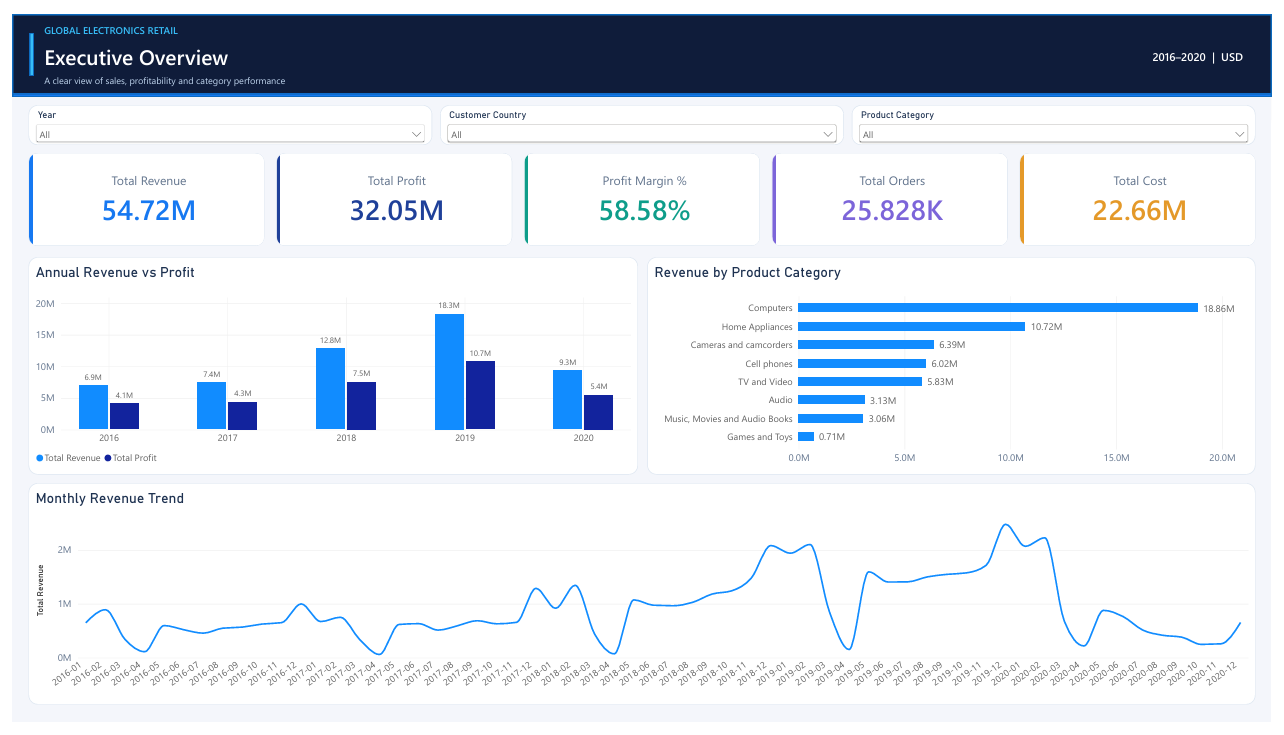

What the dashboard file says about the page in this screenshot:
{"tool":"powerbi","page":{"name":"Executive Overview","canvas":[1920,1080],"ordinal":0},"visuals":[{"type":"shape","box":[0,0,1920,121],"z":0},{"type":"cardVisual","fields":{"Data":["public sales.Profit Margin %"]},"box":[780,211,360,142],"z":1000},{"type":"shape","box":[0,121,1920,4],"z":2000},{"type":"shape","box":[26,28,6,65],"z":3000},{"type":"cardVisual","fields":{"Data":["public sales.Total Cost"]},"box":[1536,211,360,142],"z":4000},{"type":"cardVisual","fields":{"Data":["public sales.Total Orders"]},"box":[1158,211,360,142],"z":5000},{"type":"cardVisual","fields":{"Data":["public sales.Total Profit"]},"box":[402,211,360,142],"z":6000},{"type":"cardVisual","fields":{"Data":["public sales.Total Revenue"]},"box":[24,211,360,142],"z":7000},{"type":"clusteredColumnChart","title":"Annual Revenue vs Profit","fields":{"Category":["DimDate.Year"],"Y":["public sales.Total Revenue","public sales.Total Profit"]},"box":[24,370,930,332],"z":8000},{"type":"clusteredBarChart","title":"Revenue by Product Category","fields":{"Category":["public products.category"],"Y":["public sales.Total Revenue"]},"box":[968,370,928,332],"z":9000},{"type":"slicer","fields":{"Values":["DimDate.Year"]},"box":[24,138,616,61],"z":10000},{"type":"slicer","title":"Customer Country","fields":{"Values":["public customers.country"]},"box":[652,138,616,61],"z":11000},{"type":"slicer","fields":{"Values":["public products.category"]},"box":[1280,138,616,61],"z":12000},{"type":"lineChart","title":"Monthly Revenue Trend","fields":{"Category":["DimDate.Year-Month"],"Y":["public sales.Total Revenue"]},"box":[24,715,1872,338],"z":13000},{"type":"textbox","box":[48,13,1330,27],"z":14000},{"type":"textbox","box":[48,42,1450,43],"z":15000},{"type":"textbox","box":[48,91,1330,25],"z":16000},{"type":"textbox","box":[1545,52,332,43],"z":17000},{"type":"textbox","box":[26,1057,1840,22],"z":18000}]}

Visuals, with their boxes in screenshot pixels (x1, y1, x2, y2), scaled from the page's 1920x1080 canvas onto the 1284x735 screenshot:
shape: x1=0 y1=0 x2=1283 y2=82
cardVisual - public sales.Profit Margin %: x1=522 y1=144 x2=762 y2=240
shape: x1=0 y1=82 x2=1283 y2=85
shape: x1=17 y1=19 x2=21 y2=63
cardVisual - public sales.Total Cost: x1=1027 y1=144 x2=1268 y2=240
cardVisual - public sales.Total Orders: x1=774 y1=144 x2=1015 y2=240
cardVisual - public sales.Total Profit: x1=269 y1=144 x2=510 y2=240
cardVisual - public sales.Total Revenue: x1=16 y1=144 x2=257 y2=240
"Annual Revenue vs Profit" clusteredColumnChart: x1=16 y1=252 x2=638 y2=478
"Revenue by Product Category" clusteredBarChart: x1=647 y1=252 x2=1268 y2=478
slicer - DimDate.Year: x1=16 y1=94 x2=428 y2=135
"Customer Country" slicer: x1=436 y1=94 x2=848 y2=135
slicer - public products.category: x1=856 y1=94 x2=1268 y2=135
"Monthly Revenue Trend" lineChart: x1=16 y1=487 x2=1268 y2=717
textbox: x1=32 y1=9 x2=922 y2=27
textbox: x1=32 y1=29 x2=1002 y2=58
textbox: x1=32 y1=62 x2=922 y2=79
textbox: x1=1033 y1=35 x2=1255 y2=65
textbox: x1=17 y1=719 x2=1248 y2=734
